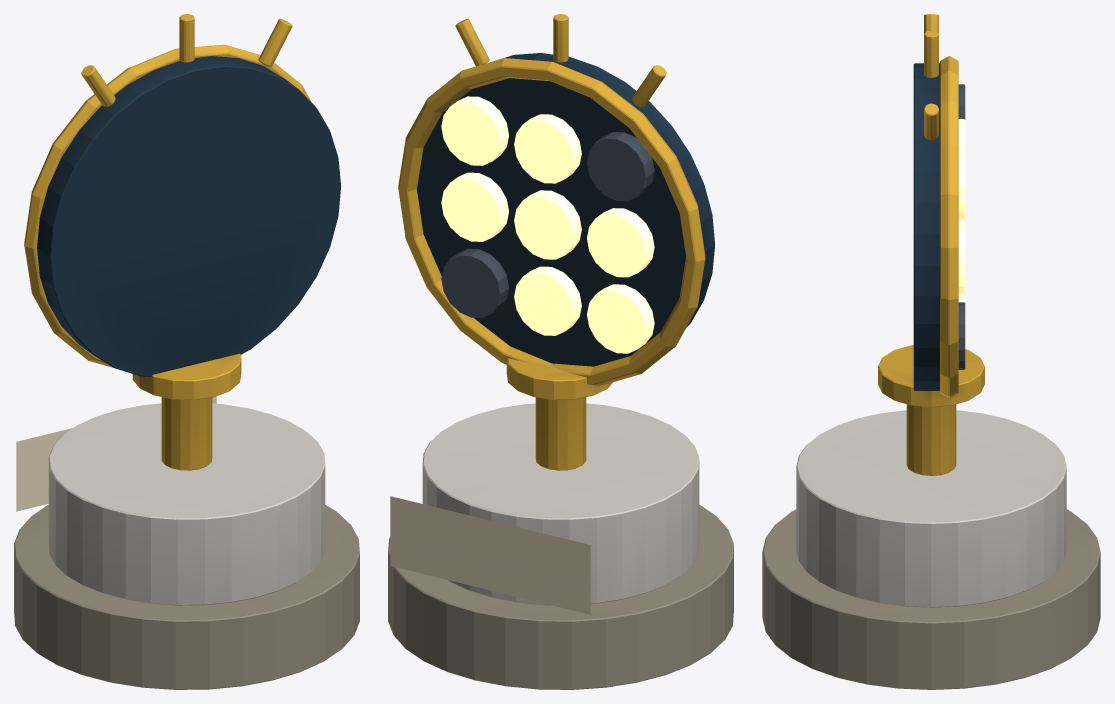
File: trophy_lights.glb
3 renders of one model, left to right at view 1: azimuth 30°, elevation 25°; view 2: azimuth 150°, elevation 25°; view 3: azimuth 270°, elevation 25°, orthographic. The views are drawn at different scales.
Parts seen in each view (by area): view 1: symbol, common_pedestal, trophy_plate; view 2: symbol, common_pedestal, trophy_plate; view 3: common_pedestal, symbol.
Boxes of the visible parts, x1=… form: symbol: x1=24, y1=14, x2=341, y2=470; common_pedestal: x1=14, y1=403, x2=359, y2=689; trophy_plate: x1=16, y1=396, x2=216, y2=511; symbol: x1=398, y1=14, x2=715, y2=470; common_pedestal: x1=388, y1=403, x2=733, y2=689; trophy_plate: x1=390, y1=496, x2=590, y2=614; common_pedestal: x1=762, y1=410, x2=1100, y2=689; symbol: x1=878, y1=14, x2=984, y2=475.
Bounding box in the file's own units: 0.9175 × 1.72 × 0.9.
